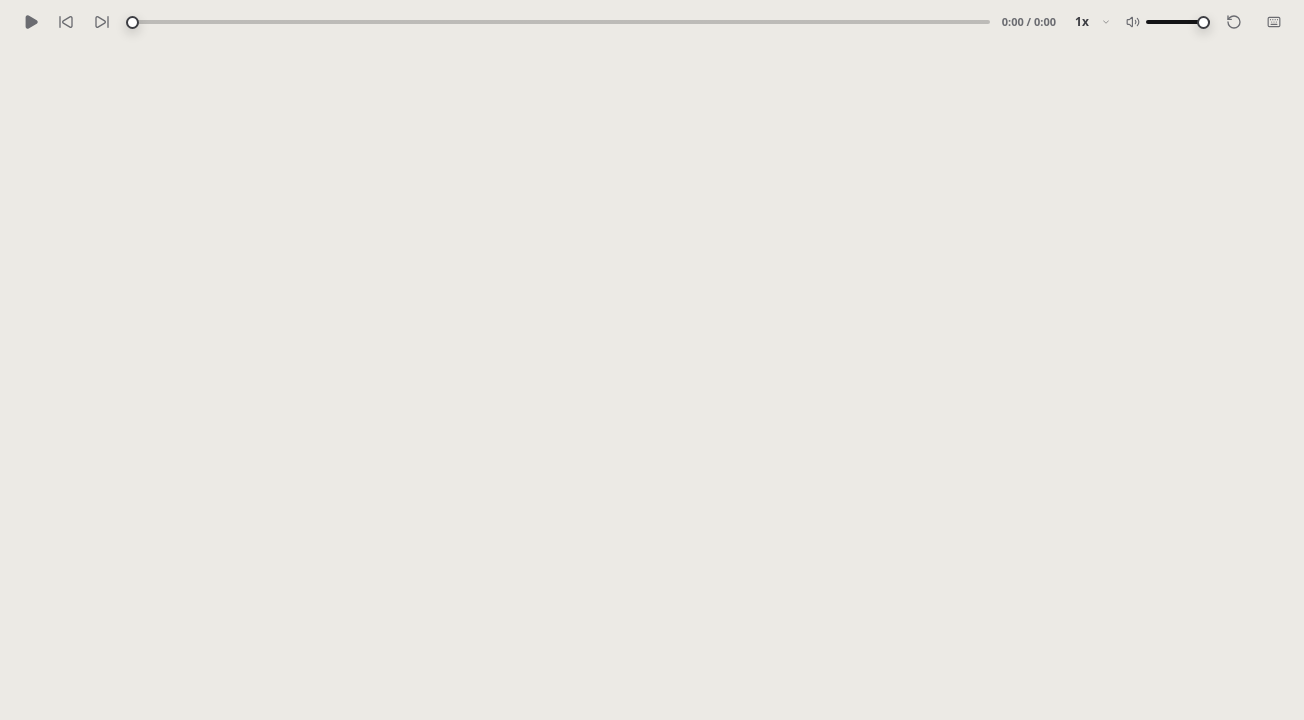
AudioPlayer › centers speed dropdown horizontally relative to the button
Click the button titled "Velocità di riproduzione".
click(1092, 22)  # box [1066,6,1118,38]
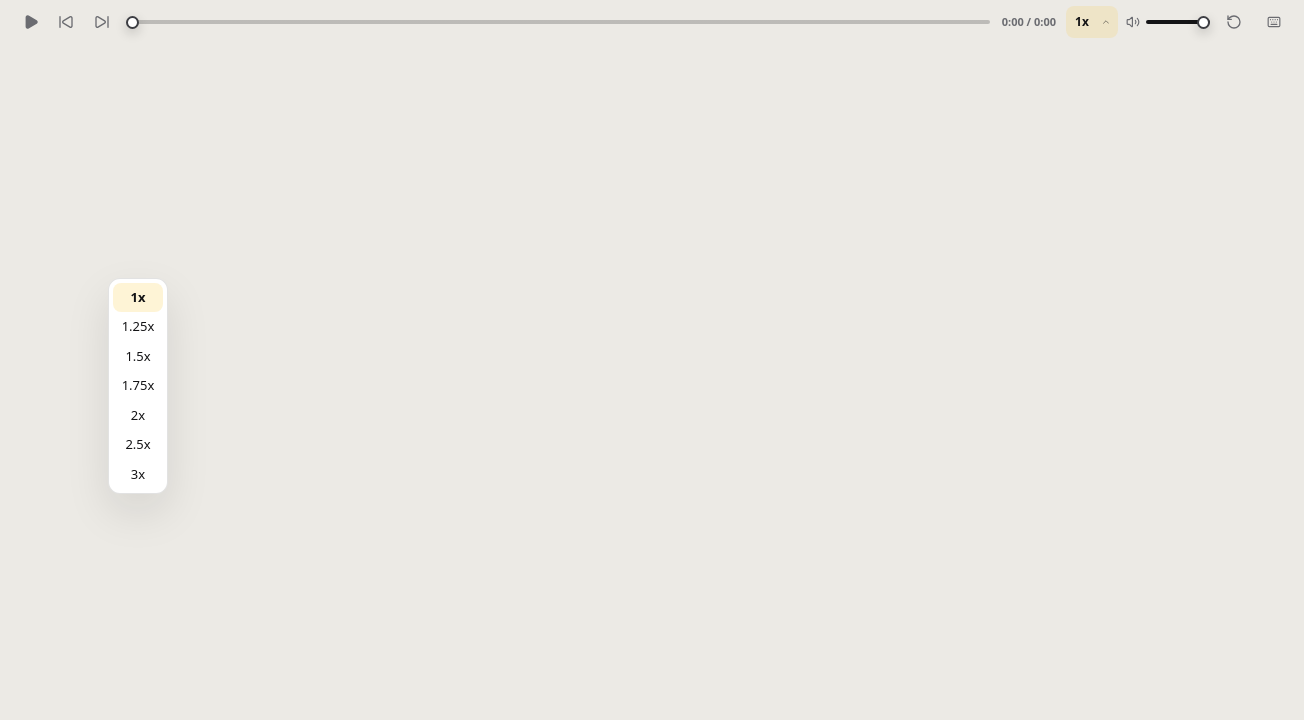
Expected: the list named "Velocità di riproduzione" is shown, [108,278,168,494]
